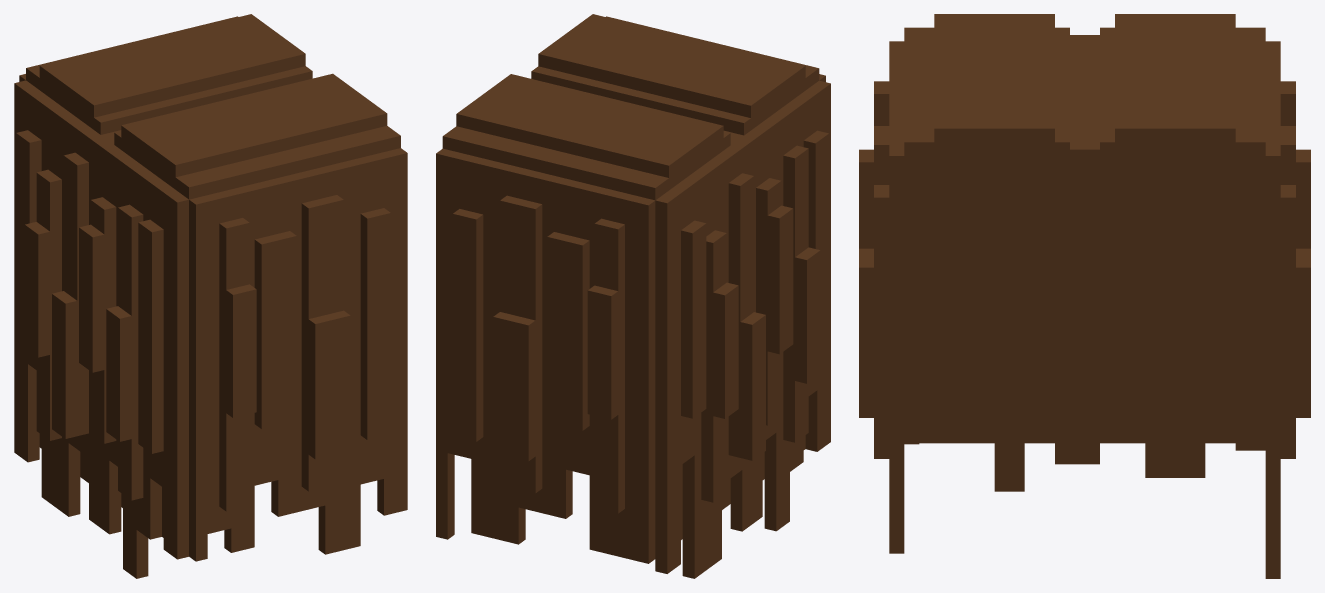
Rendered from av_hair_long.glb.
The picture shows the model from 3 angles, left to right: view 1: azimuth 30°, elevation 25°; view 2: azimuth 150°, elevation 25°; view 3: azimuth 270°, elevation 25°; orthographic projection. The views are drawn at different scales.
Visible parts, largest first — view 1: model; view 2: model; view 3: model.
Part boxes in pixels (x1,y1,x2,y2): model: (14, 14, 407, 578); model: (436, 14, 830, 578); model: (859, 14, 1310, 578).
Size of the model in its own units: 0.2102 by 0.3504 by 0.3003.
